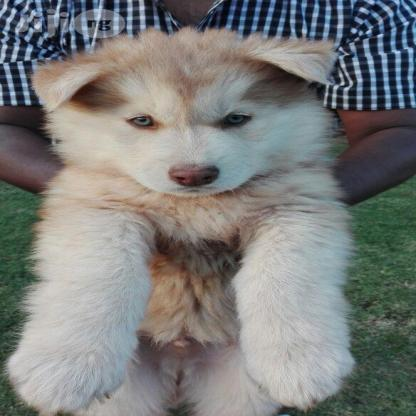husky: (9, 31, 354, 416)
